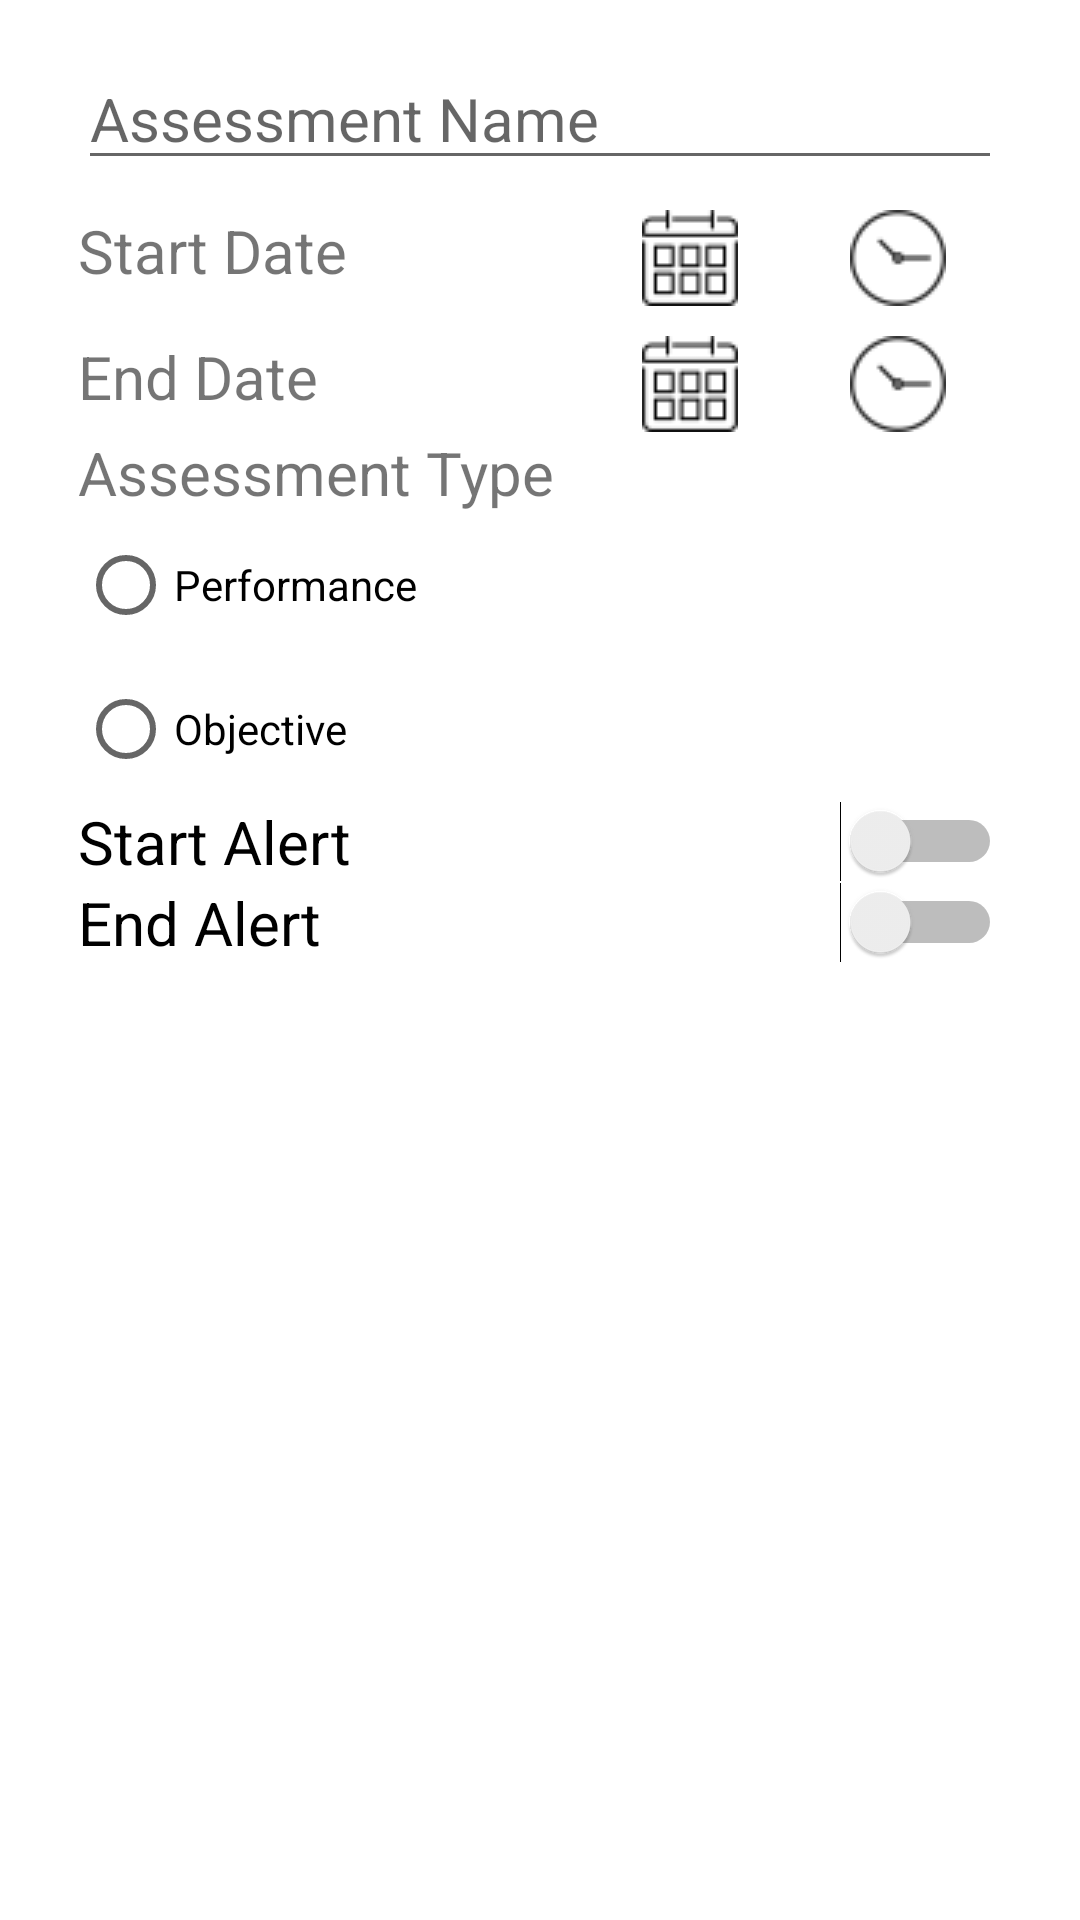

Point at icon controls on the screen. Image size 1080px×1920px, points as (x=x, y=y).
calendar: (x=690, y=258), (x=690, y=384)
clock: (x=898, y=258), (x=898, y=384)
